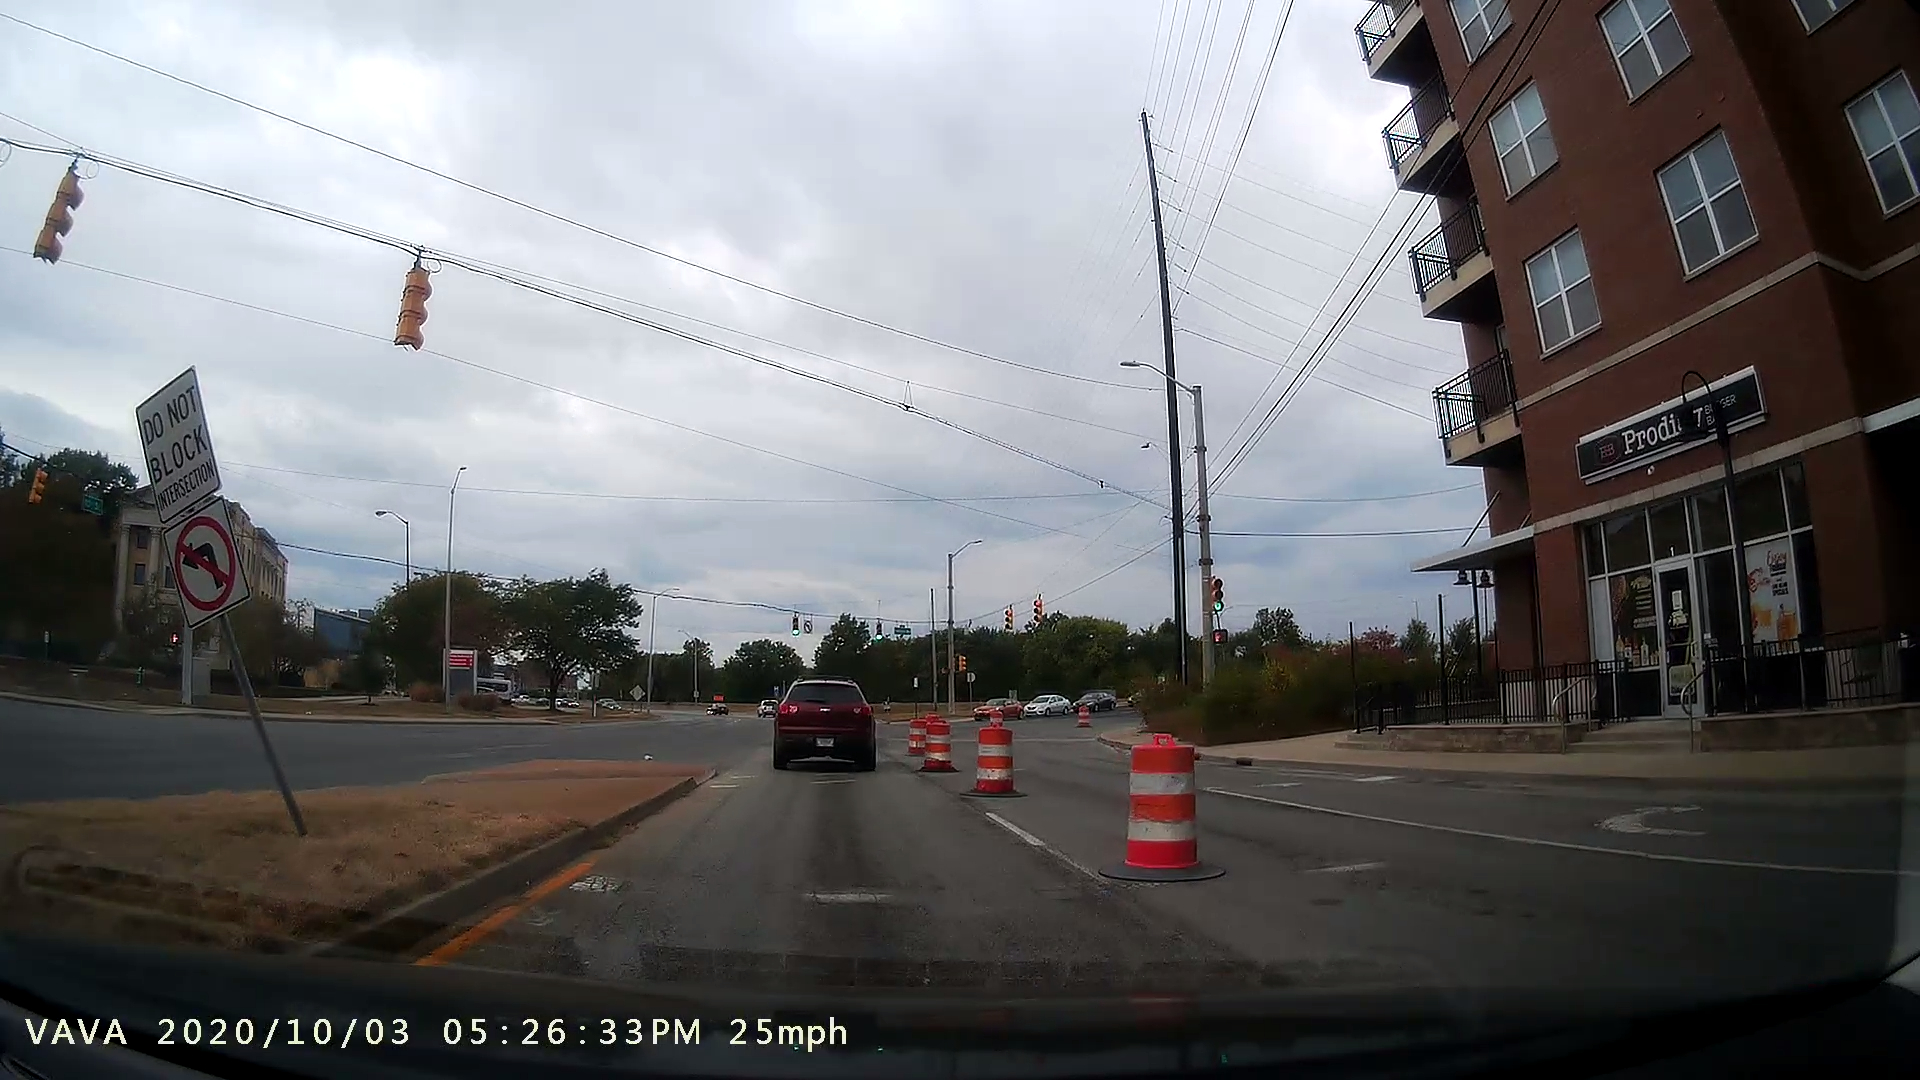const_barrel: (1105, 723, 1228, 887), (960, 700, 1040, 804), (910, 703, 963, 782)
